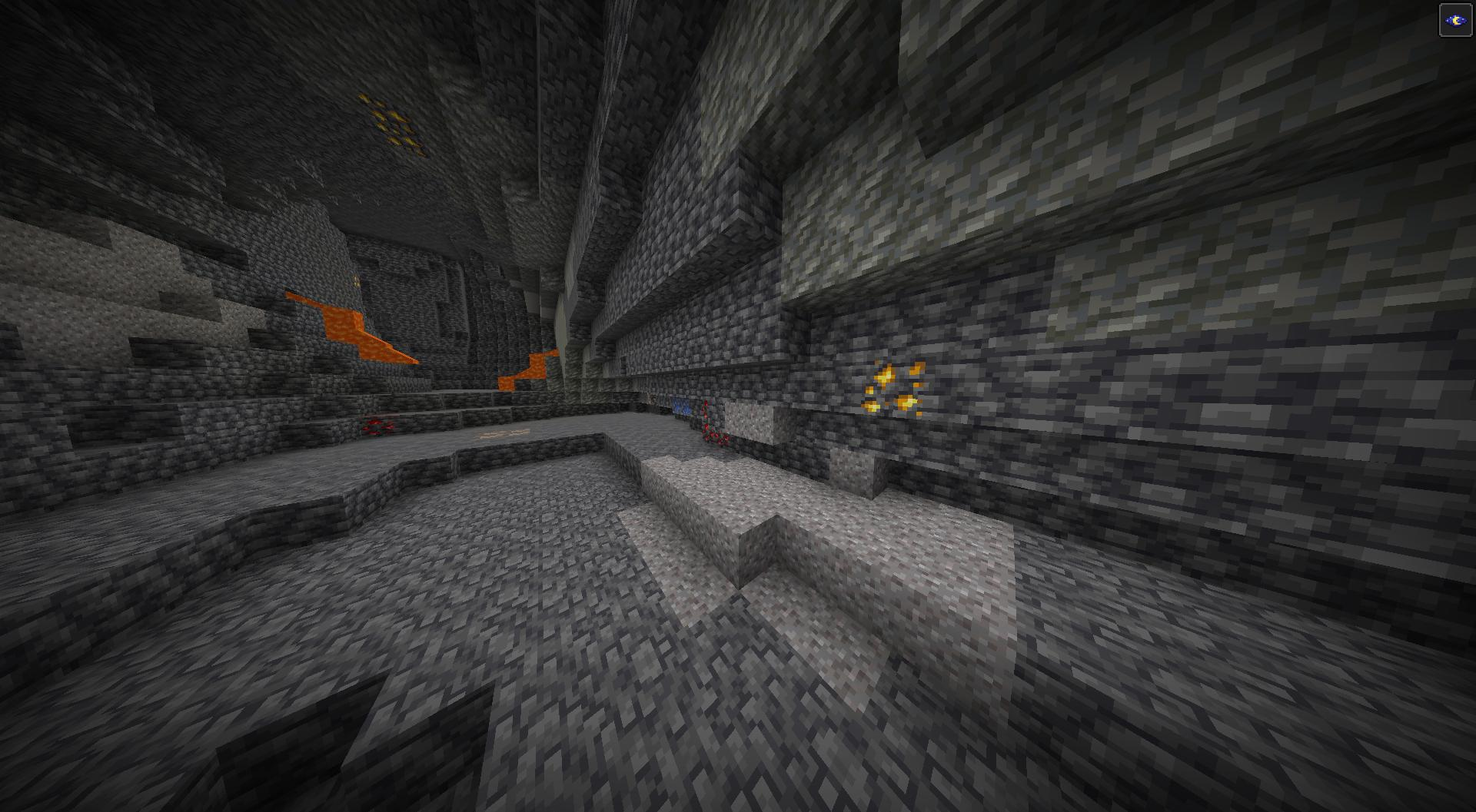gold ore: (356, 91, 428, 159), (862, 362, 924, 418), (348, 269, 365, 290)
redstone ore: (700, 398, 730, 449), (362, 409, 403, 435)
